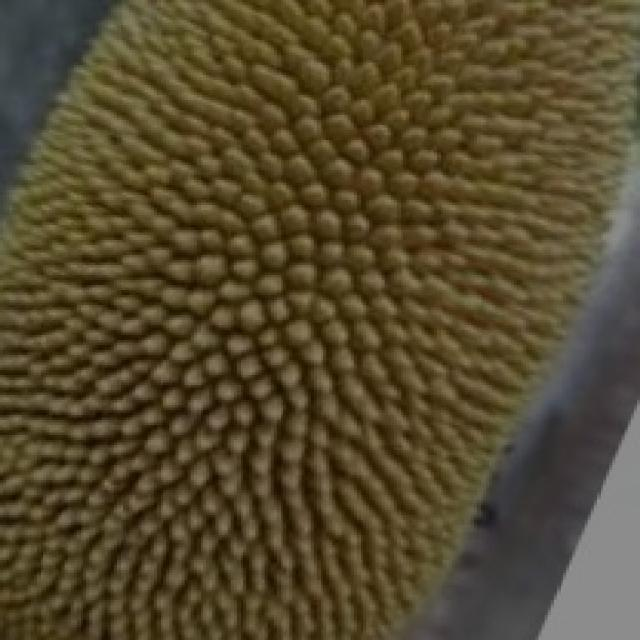Fruit: (0, 0, 403, 458), (274, 0, 640, 368)
